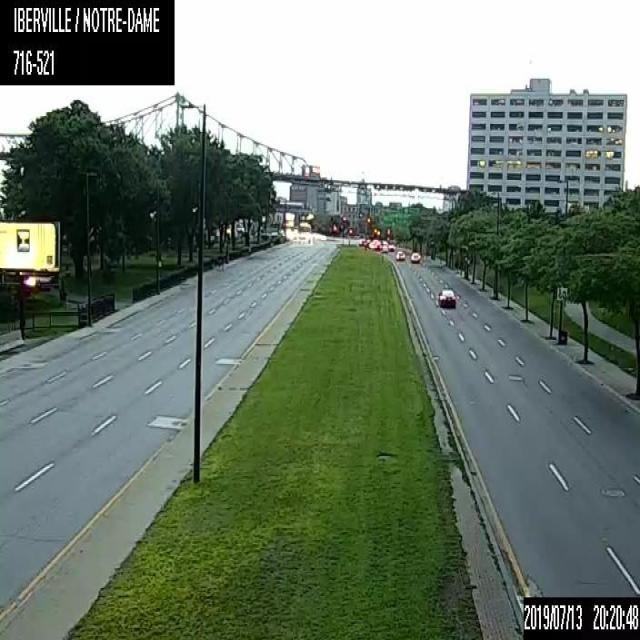vehicle: (437, 285, 455, 308), (410, 251, 419, 261), (396, 249, 404, 259)
